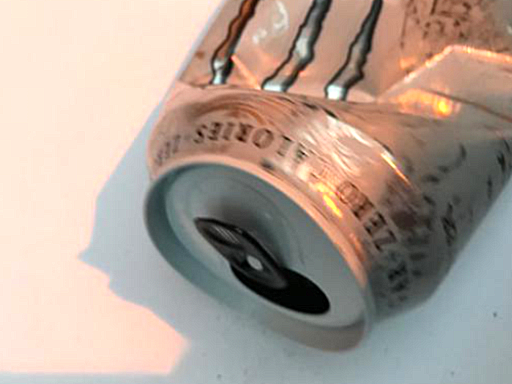can_s: (137, 1, 512, 356)
